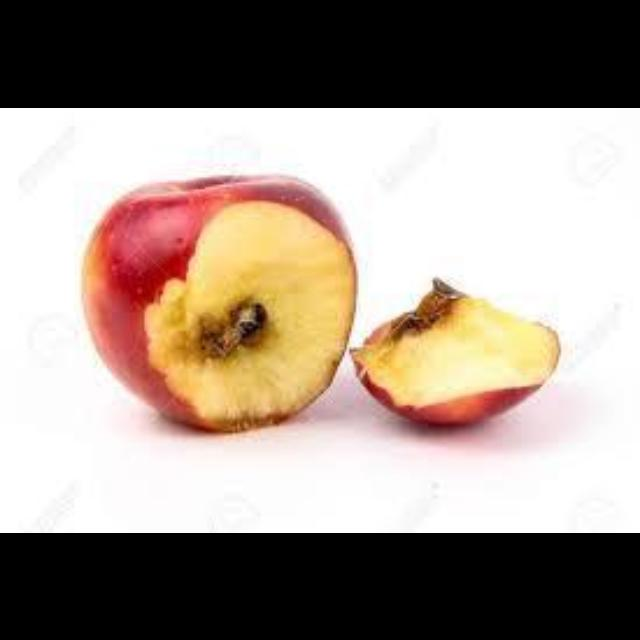apple: (81, 174, 354, 430), (351, 277, 559, 424)
pest: (187, 297, 275, 363), (388, 277, 469, 341)
scratch: (150, 207, 353, 417)
